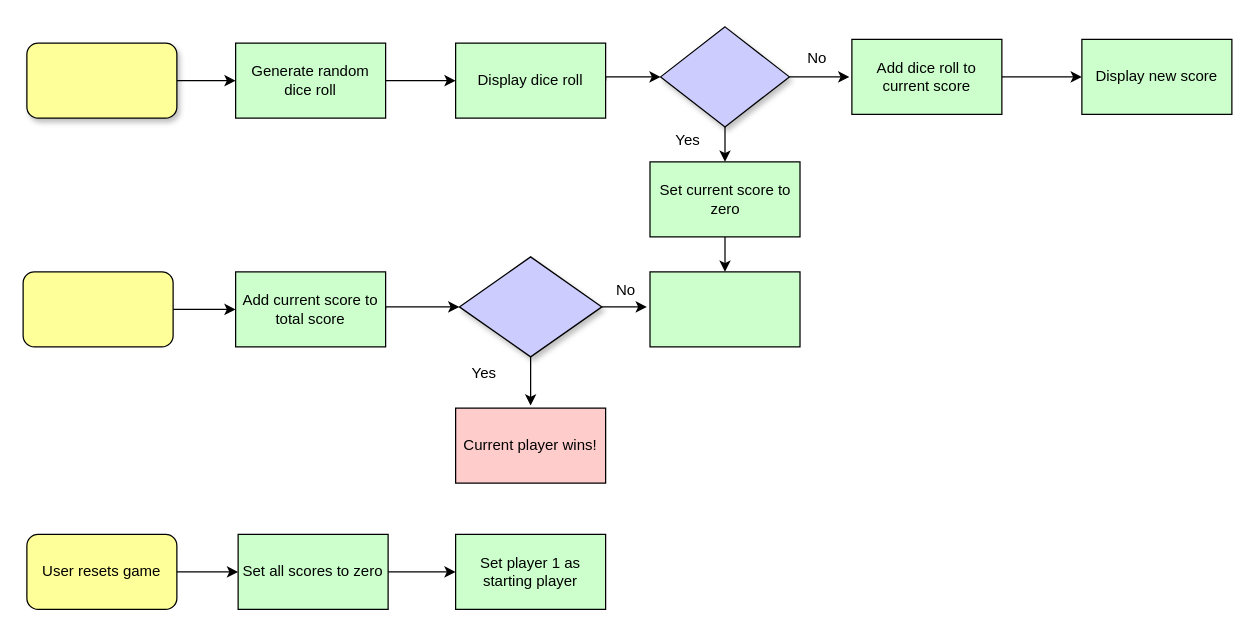
Some shapes in this 1254 by 631 pixel diagram are drawn without their labels. The shapes that lost their labels are listed below. From the top down, each one's centre as x and y in pixels, then its label:
At (102,82): "User rolls dice".
At (725,78): "Is it a 1 ?".
At (97,309): "User holds score".
At (531,308): "Score >= 100 ?".
At (724,309): "Switch player".
